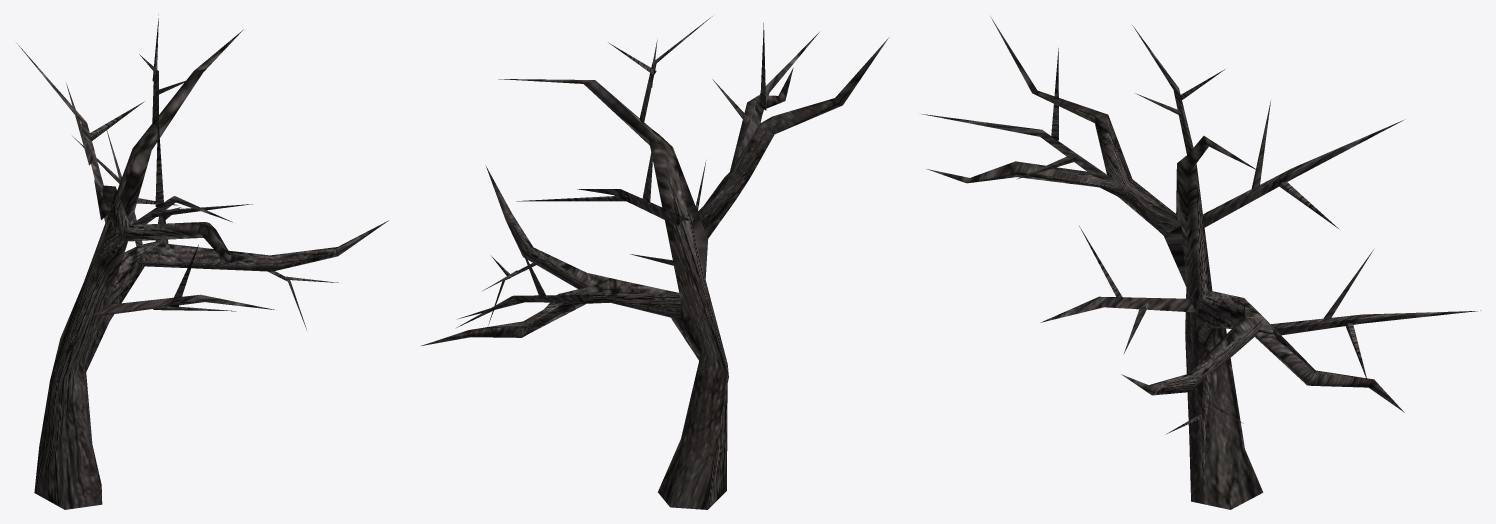
The model's file is Tree04.glb.
The picture shows the model from 3 angles, left to right: view 1: azimuth 30°, elevation 25°; view 2: azimuth 150°, elevation 25°; view 3: azimuth 270°, elevation 25°; orthographic projection. The views are drawn at different scales.
Parts seen in each view (by area): view 1: Tree04; view 2: Tree04; view 3: Tree04.
Part boxes in pixels (x1,y1,x2,y2): Tree04: [17, 14, 388, 509]; Tree04: [420, 16, 888, 509]; Tree04: [921, 16, 1480, 509].
Size of the model in its own units: 4.01 by 5 by 5.3.
1 material, 1 textured.
